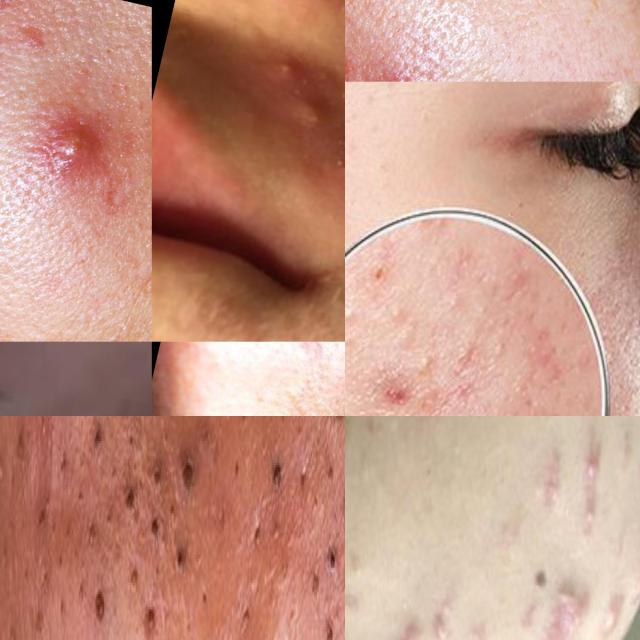acne_scars: (87, 162, 146, 234), (449, 340, 479, 400), (368, 380, 408, 412), (345, 28, 362, 81), (0, 0, 29, 27)
comedone: (378, 298, 408, 336), (432, 288, 462, 323), (416, 342, 436, 391), (146, 502, 162, 562), (266, 451, 286, 498), (181, 442, 195, 505), (172, 540, 190, 584), (345, 302, 368, 336), (121, 483, 137, 528), (327, 540, 342, 587), (141, 594, 156, 640), (91, 582, 108, 620), (490, 334, 508, 364), (91, 424, 109, 454), (151, 451, 162, 498), (323, 618, 335, 640)
cystic: (267, 0, 345, 25)
keloid: (534, 423, 613, 547), (539, 555, 629, 640), (381, 591, 493, 640)
papule: (270, 88, 338, 140), (266, 32, 318, 84), (327, 141, 345, 217)
sebo-crystan-conglo: (36, 103, 114, 181)
